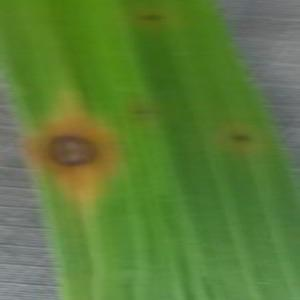Brown_Spot: (22, 114, 124, 186), (130, 9, 168, 26), (224, 128, 255, 147), (126, 102, 160, 119)
